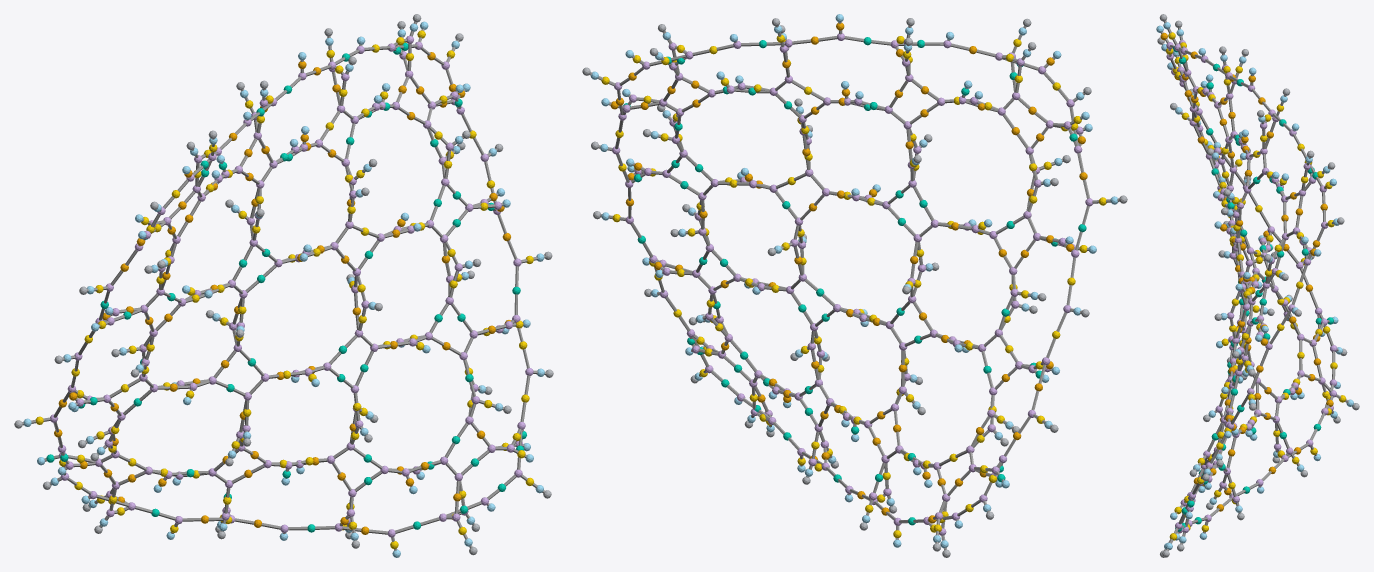
File: network_L10_d8.glb
The picture shows the model from 3 angles, left to right: view 1: azimuth 30°, elevation 25°; view 2: azimuth 150°, elevation 25°; view 3: azimuth 270°, elevation 25°; orthographic projection. The views are drawn at different scales.
Parts seen in each view (by area): view 1: edges, CZ, T, H, Y_1_2, X_1_2, input; view 2: edges, CZ, T, H, Y_1_2, X_1_2, input; view 3: edges, CZ, T, H, Y_1_2, input, X_1_2.
Boxes of the visible parts, bbox=[...] form: edges: bbox=[22, 21, 546, 550]; CZ: bbox=[50, 35, 533, 537]; T: bbox=[35, 30, 533, 549]; H: bbox=[23, 21, 544, 557]; Y_1_2: bbox=[54, 52, 510, 534]; X_1_2: bbox=[46, 42, 526, 532]; input: bbox=[14, 14, 553, 555]; edges: bbox=[589, 22, 1119, 550]; CZ: bbox=[612, 33, 1092, 535]; T: bbox=[601, 34, 1106, 537]; H: bbox=[590, 14, 1118, 548]; Y_1_2: bbox=[610, 23, 1087, 523]; X_1_2: bbox=[623, 37, 1086, 525]; input: bbox=[582, 18, 1127, 557]; edges: bbox=[1160, 20, 1354, 550]; CZ: bbox=[1166, 40, 1337, 533]; T: bbox=[1166, 32, 1346, 540]; H: bbox=[1156, 22, 1353, 549]; Y_1_2: bbox=[1160, 32, 1333, 516]; input: bbox=[1157, 14, 1359, 557]; X_1_2: bbox=[1173, 46, 1333, 531].
Bounding box in the file's own units: 2.03 × 1.92 × 0.7986.
